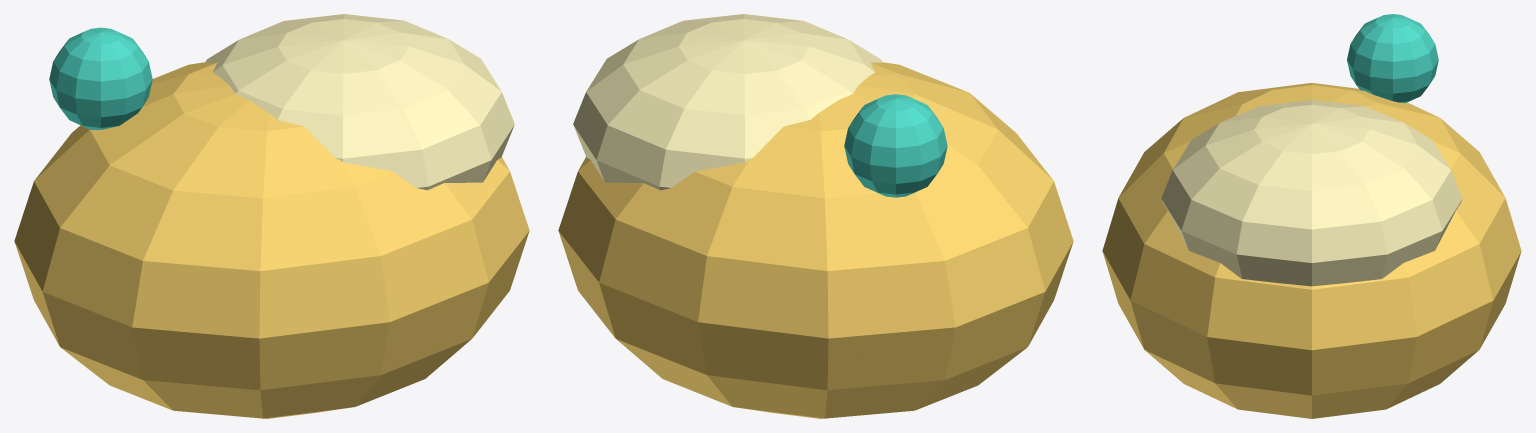
The model's file is ING_ArcaneFat_V1.glb.
3 views of the same model, side by side, from view 1: azimuth 30°, elevation 25°; view 2: azimuth 150°, elevation 25°; view 3: azimuth 270°, elevation 25° (orthographic). The views are drawn at different scales.
Parts seen in each view (by area): view 1: Fat, Cream, ArcaneSpark; view 2: Fat, Cream, ArcaneSpark; view 3: Fat, Cream, ArcaneSpark.
Part boxes in pixels (left/top/right/bottom): Fat: left=14, top=62, right=529, bottom=418; Cream: left=205, top=14, right=514, bottom=190; ArcaneSpark: left=49, top=27, right=152, bottom=129; Fat: left=558, top=62, right=1073, bottom=418; Cream: left=573, top=14, right=882, bottom=190; ArcaneSpark: left=844, top=94, right=947, bottom=197; Fat: left=1102, top=83, right=1521, bottom=418; Cream: left=1161, top=100, right=1462, bottom=286; ArcaneSpark: left=1347, top=14, right=1438, bottom=103.
Bounding box in the file's own units: 1.28 × 0.95 × 1.14.
